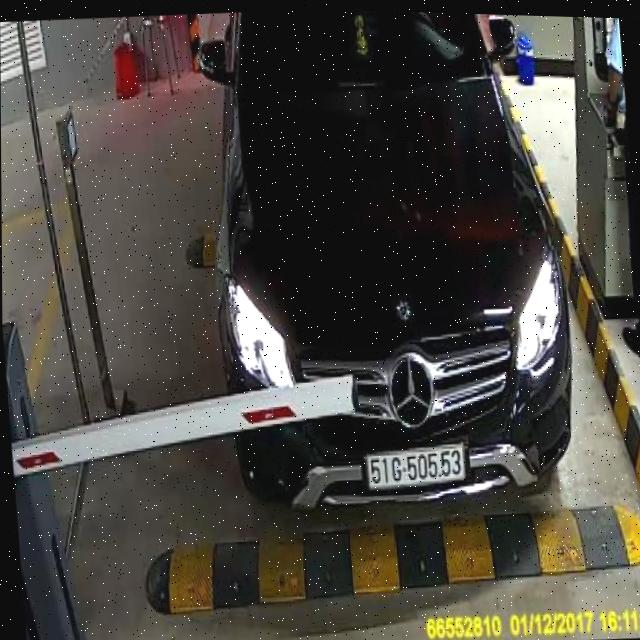car: (184, 5, 600, 538)
plate: (359, 440, 469, 491)
